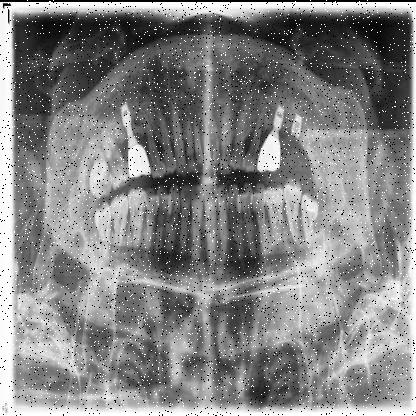Bicon: (114, 97, 142, 147), (268, 101, 286, 139), (290, 108, 304, 140)
